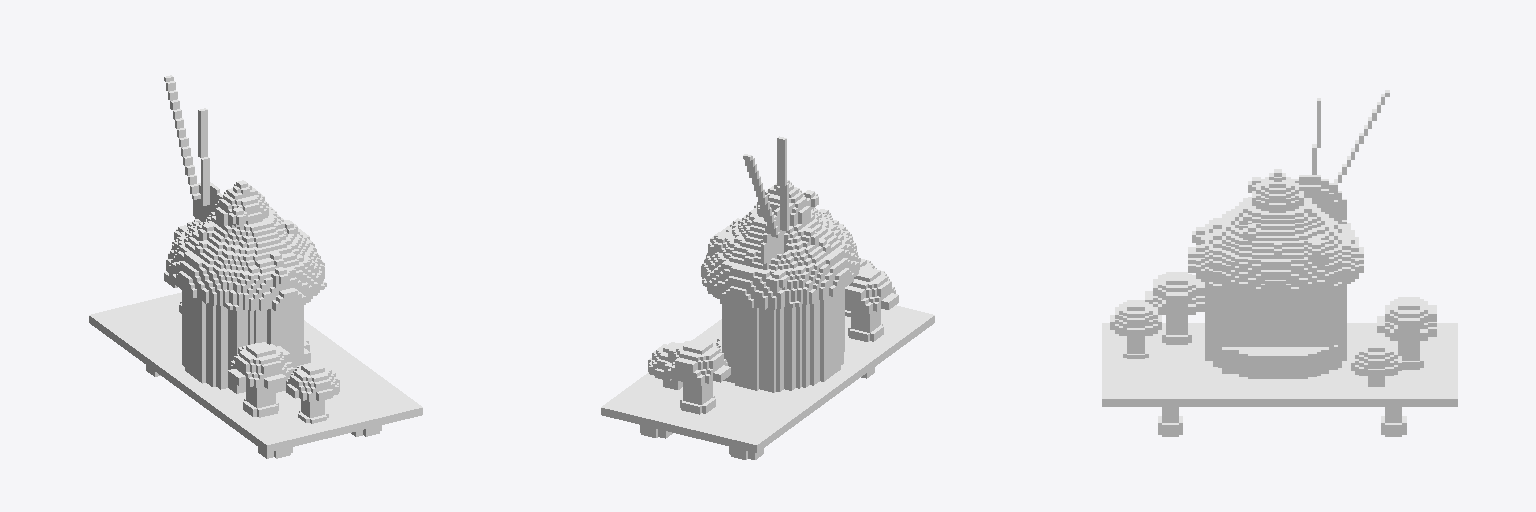
3 renders of one model, left to right at view 1: azimuth 30°, elevation 25°; view 2: azimuth 150°, elevation 25°; view 3: azimuth 270°, elevation 25°, orthographic.
Visible parts, largest first — view 1: TV_01; view 2: TV_01; view 3: TV_01.
Boxes of the visible parts, <box> form: TV_01: <box>89,75,422,458</box>; TV_01: <box>601,136,934,459</box>; TV_01: <box>1102,90,1457,436</box>.
Size of the model in its own units: 42 by 76 by 83.